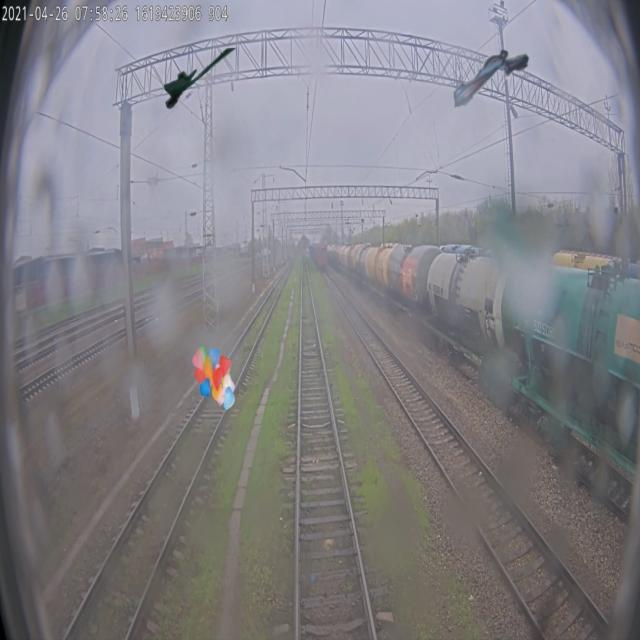balloon: (192, 346, 235, 410)
floating object: (454, 44, 530, 108), (164, 46, 239, 110)
